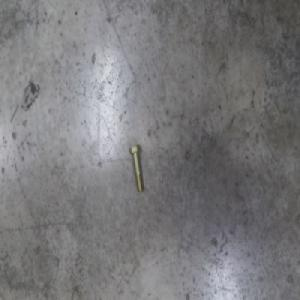Bolt: (129, 142, 144, 192)
